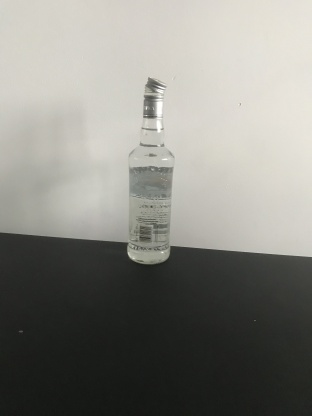nakretka: (141, 74, 168, 119)
